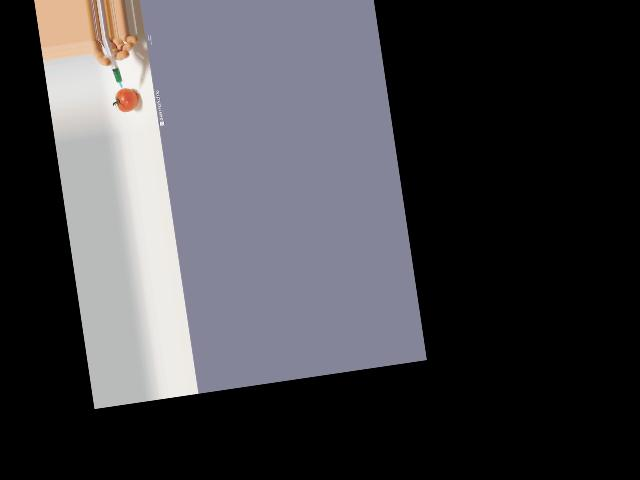tomato: (115, 86, 139, 112)
